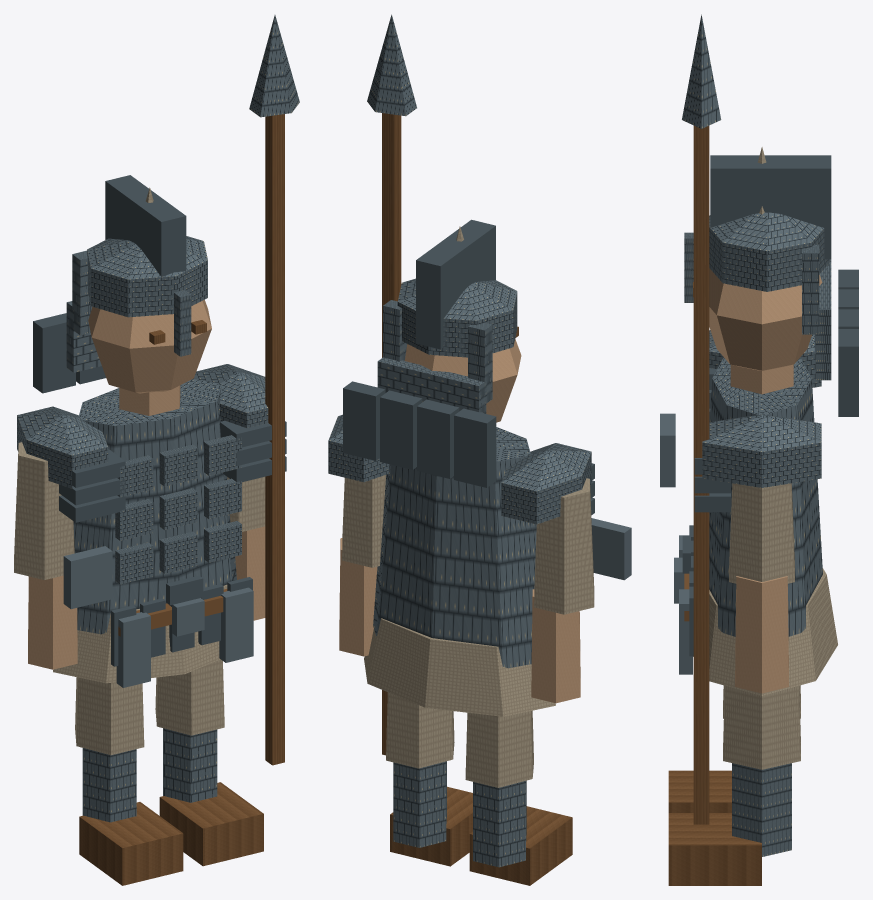
File: unit-SPEAR-lod0.glb
3 renders of one model, left to right at view 1: azimuth 30°, elevation 25°; view 2: azimuth 150°, elevation 25°; view 3: azimuth 270°, elevation 25°, orthographic. The views are drawn at different scales.
Bounding box in the file's own units: 0.187 × 0.565 × 0.115.
Materials: 1 (1 with a texture image).
